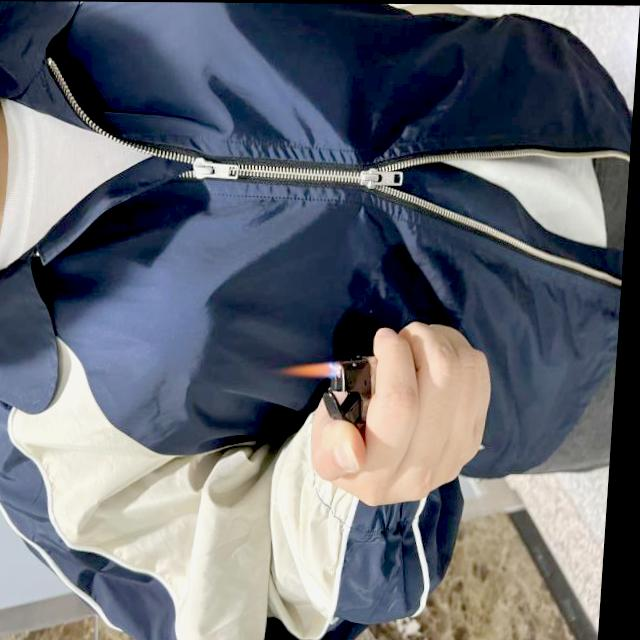Fire: (287, 360, 345, 380)
